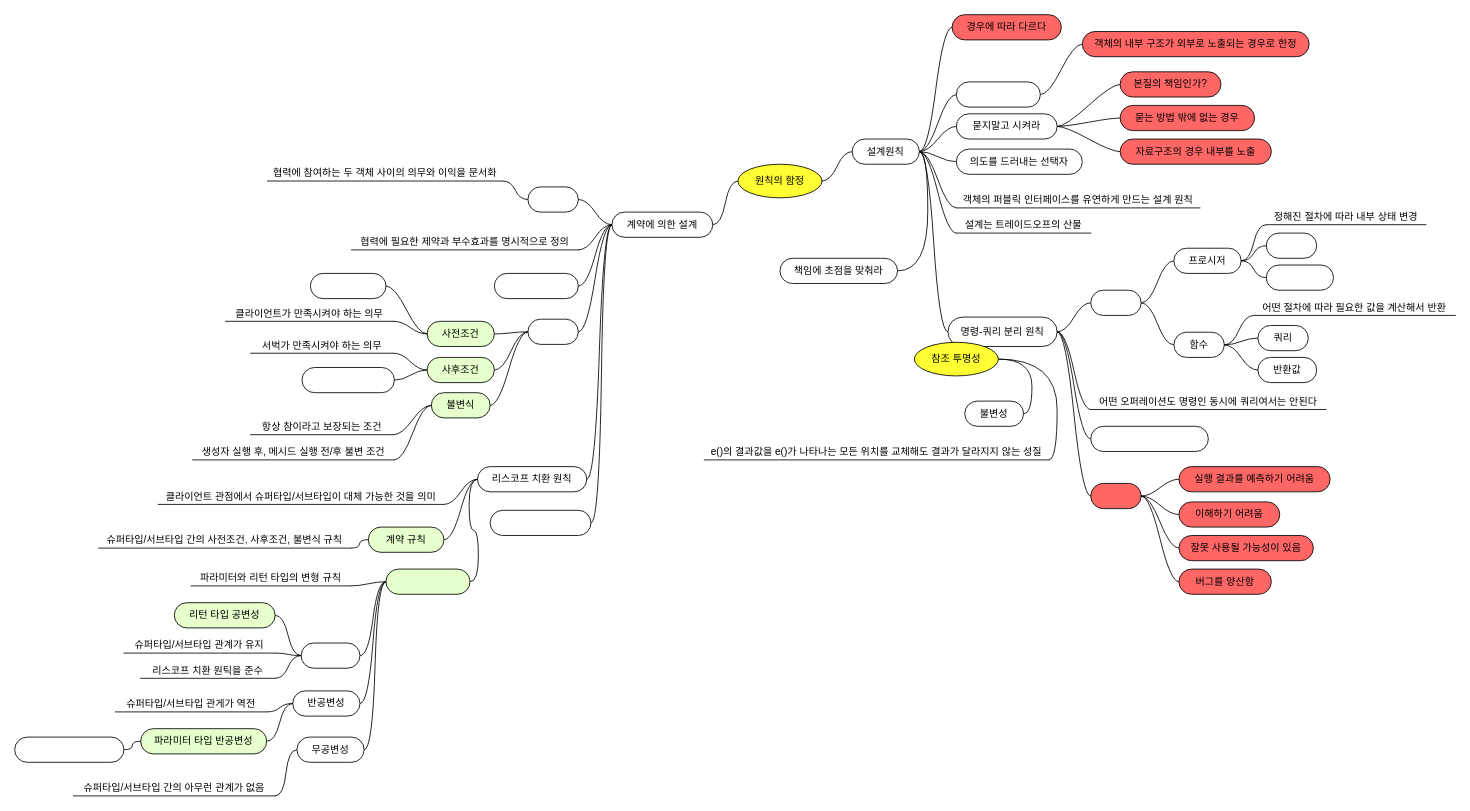
Some shapes in this 1470 by 811 pixel diagram are drawn without their labels. Each missing label, with the centre of its shape:
가변성 규칙: (x=427, y=581)
계약: (x=552, y=199)
공변성: (x=330, y=655)
디미터 법칙: (x=998, y=94)
루틴: (x=1115, y=302)
명령: (x=1291, y=245)
명령-쿼리 인터페이스: (x=1149, y=438)
부수효과: (x=1299, y=277)
서브타이핑 관계: (x=540, y=522)
실행 결과 조건: (x=347, y=380)
실행 조건: (x=348, y=286)
요소: (x=552, y=331)
위배: (x=1115, y=496)
정합성 체크: (x=536, y=286)
제네릭 프로그래밍: (x=69, y=749)
